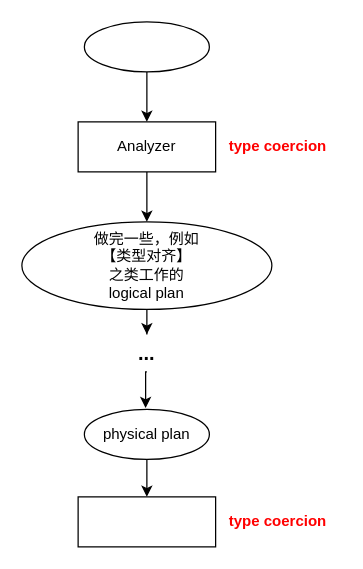
The diagram is 363 pixels wide and 569 high, and some of its shapes have lost their labels. The shapes that lost their labels are listed below. From the top down, each one's centre as x and y in pixels, then its label:
the point at 146,46: logical plan
the point at 146,521: Execution
